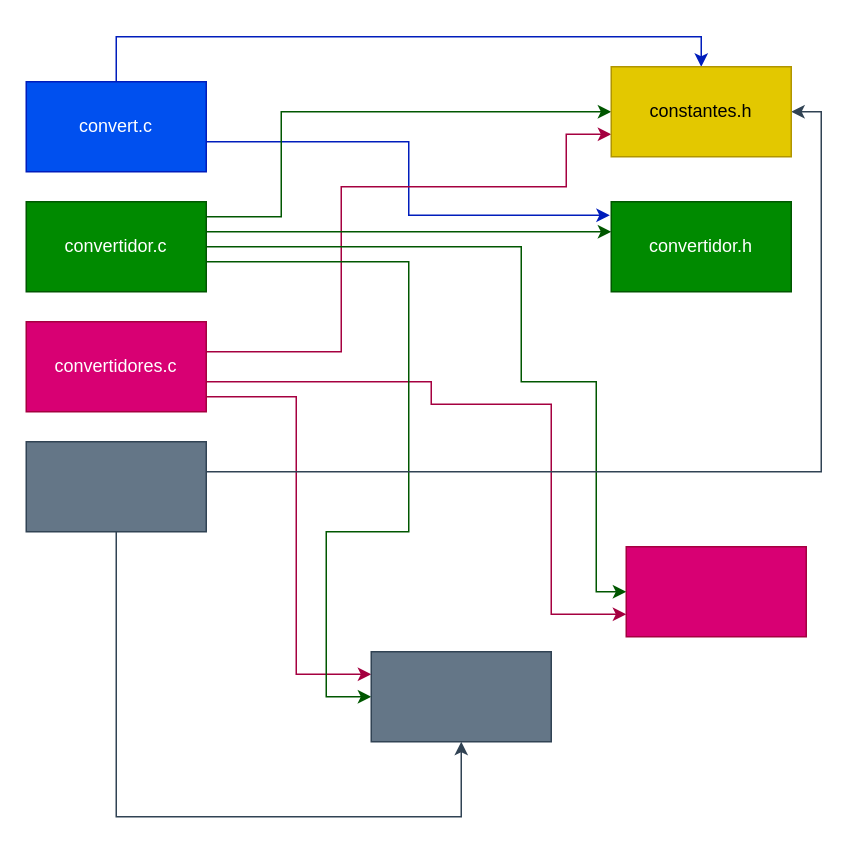
This 860x855 diagram has some shape labels left out. The shapes that lost their labels are listed below. From the top down, each one's box as (x1, y1, x2, y2) in pixels, then its label:
(25, 440, 206, 532): auxiliares.c
(625, 545, 806, 637): convertidores.h
(370, 650, 551, 742): auxiliares.h
